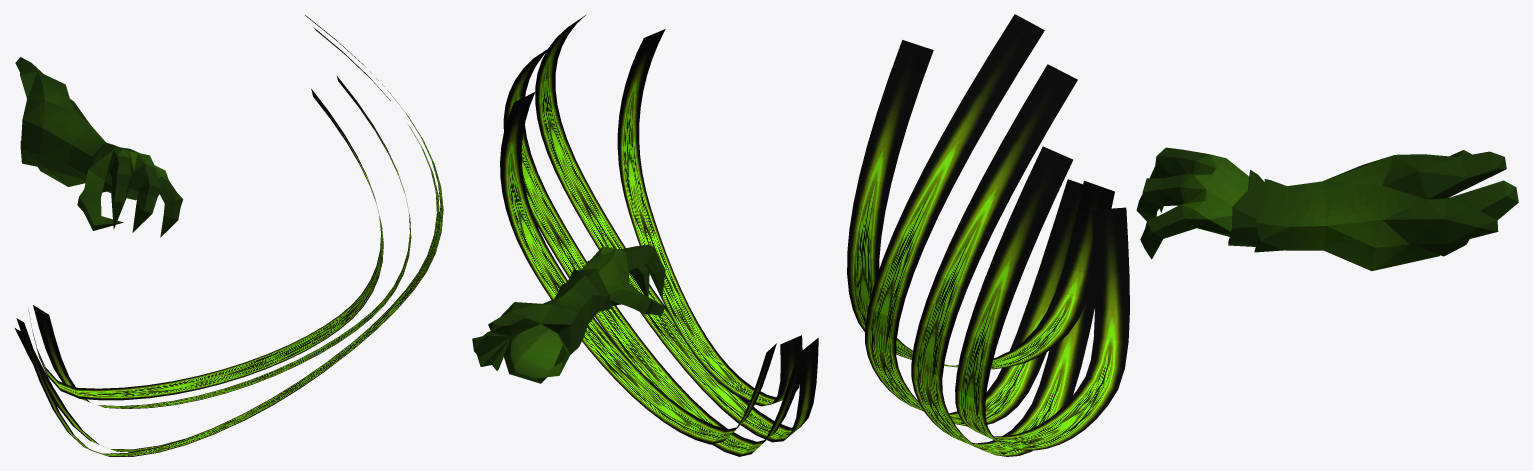
The model's file is tx_robber_jikui_fire_01.obj.
3 views of the same model, side by side, from view 1: azimuth 30°, elevation 25°; view 2: azimuth 150°, elevation 25°; view 3: azimuth 270°, elevation 25° (orthographic). The views are drawn at different scales.
Visible parts, largest first — view 1: 01, Plane04, Plane03, Plane01, Plane02; view 2: 01, Plane03, Plane01, Plane04, Plane02; view 3: 01, Plane03, Plane01, Plane02, Plane04.
Part boxes in pixels (x1,y1,x2,y2): 01: (15, 57, 183, 237); Plane04: (28, 89, 383, 400); Plane03: (16, 15, 443, 456); Plane01: (33, 75, 411, 408); Plane02: (14, 27, 439, 452); 01: (472, 245, 665, 383); Plane03: (535, 14, 818, 442); Plane01: (500, 92, 776, 444); Plane04: (617, 29, 802, 406); Plane02: (503, 46, 801, 456); 01: (1136, 147, 1518, 270); Plane03: (865, 14, 1082, 426); Plane01: (955, 146, 1129, 450); Plane02: (911, 64, 1094, 456); Plane04: (847, 40, 1114, 369).
Size of the model in its own units: 272 by 286 by 336.
2 materials, 2 textured.
